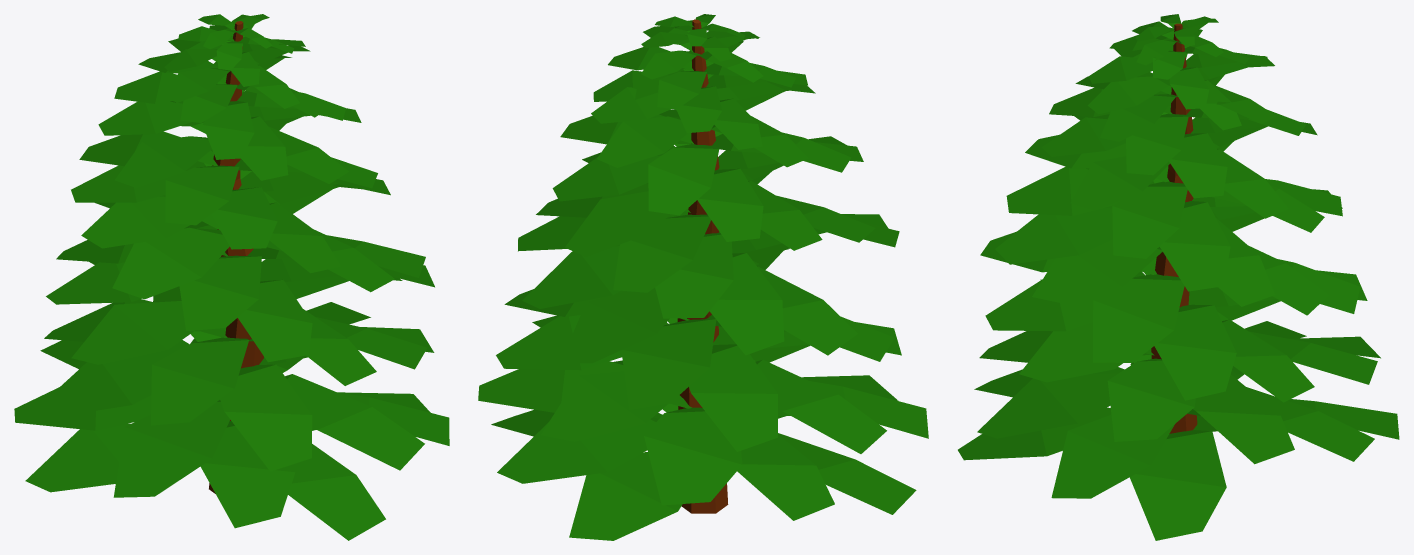
File: tree.fbx
The picture shows the model from 3 angles, left to right: view 1: azimuth 30°, elevation 25°; view 2: azimuth 150°, elevation 25°; view 3: azimuth 270°, elevation 25°; orthographic projection. The views are drawn at different scales.
Parts seen in each view (by area): view 1: Cylinder.081; view 2: Cylinder.081; view 3: Cylinder.081.
Part boxes in pixels (left/top/right/bottom): Cylinder.081: left=14, top=14, right=449, bottom=540; Cylinder.081: left=478, top=14, right=928, bottom=540; Cylinder.081: left=958, top=14, right=1399, bottom=540.
Size of the model in its own units: 135 by 154 by 135.
